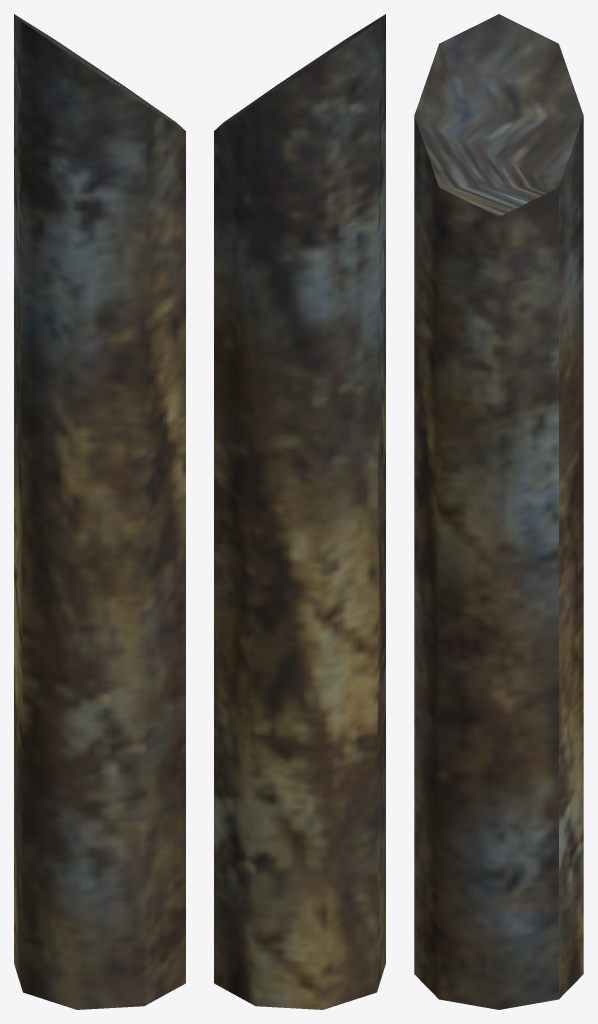
Rendered from item_steelpin01_part2.dae.
3 views of the same model, side by side, from view 1: azimuth 30°, elevation 25°; view 2: azimuth 150°, elevation 25°; view 3: azimuth 270°, elevation 25° (orthographic). The views are drawn at different scales.
Visible parts, largest first — view 1: steelpinpart2; view 2: steelpinpart2; view 3: steelpinpart2.
Boxes of the visible parts, box(x1,y1,x2,y2) form: steelpinpart2: box(14, 14, 185, 1009); steelpinpart2: box(214, 14, 385, 1009); steelpinpart2: box(414, 14, 583, 1009).
Size of what is drawn, in the model's own units: 0.1 by 0.6023 by 0.1.
